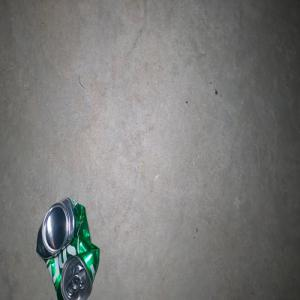SodaCan: (35, 197, 99, 300)
